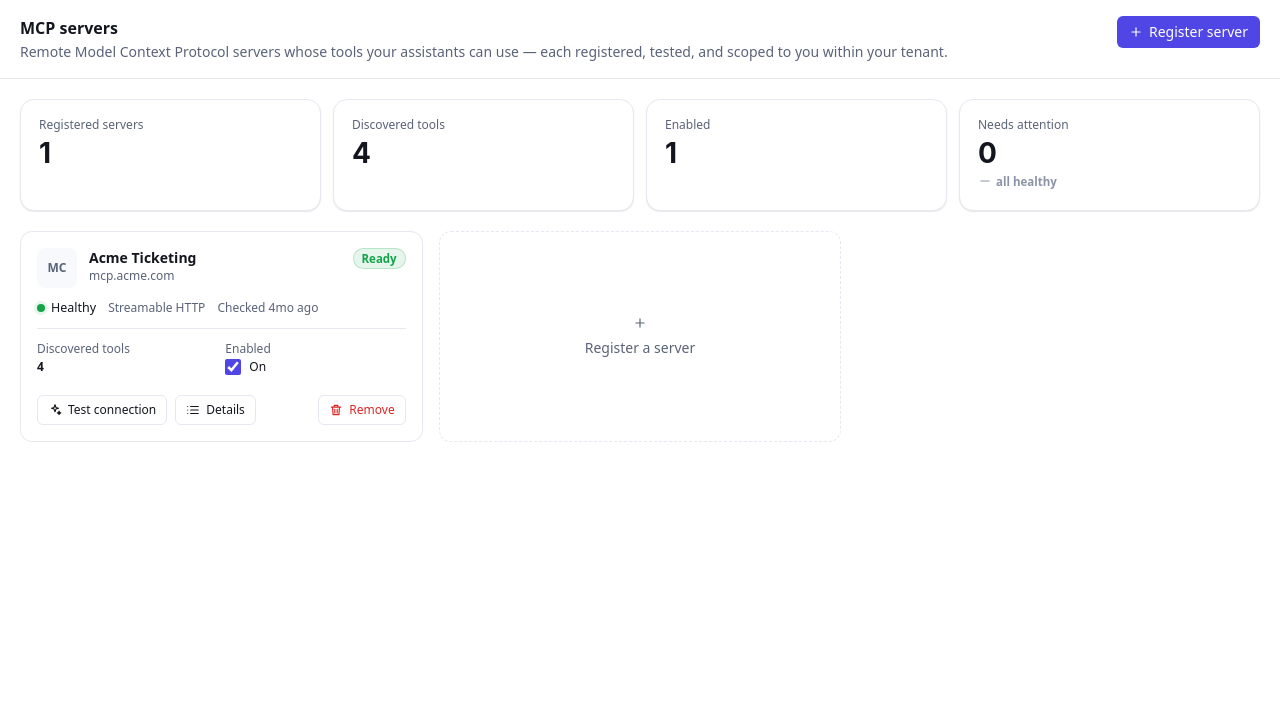
Test case: ServersPanel — actions › cancels the remove without deleting
Click the button with aria-label "remove acme".
click(362, 410)  # box [318,395,406,425]
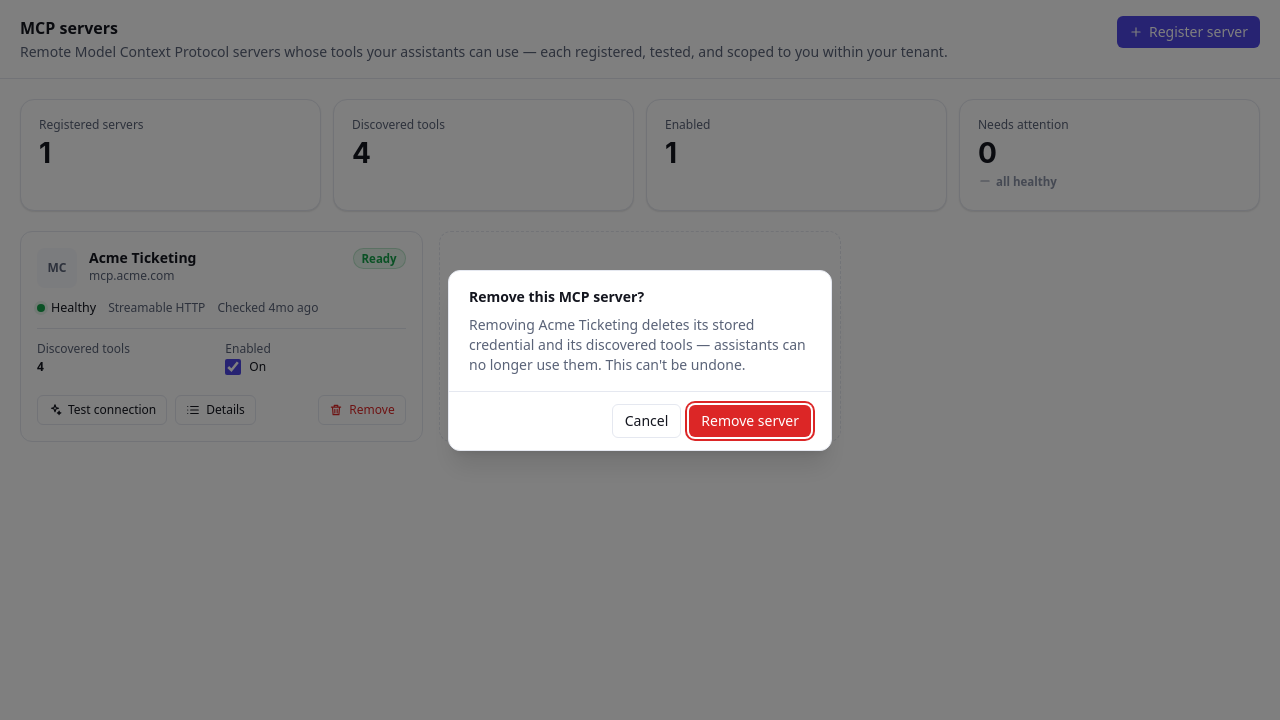
Click the button "Cancel".
click(646, 420)  # box [612,404,681,438]
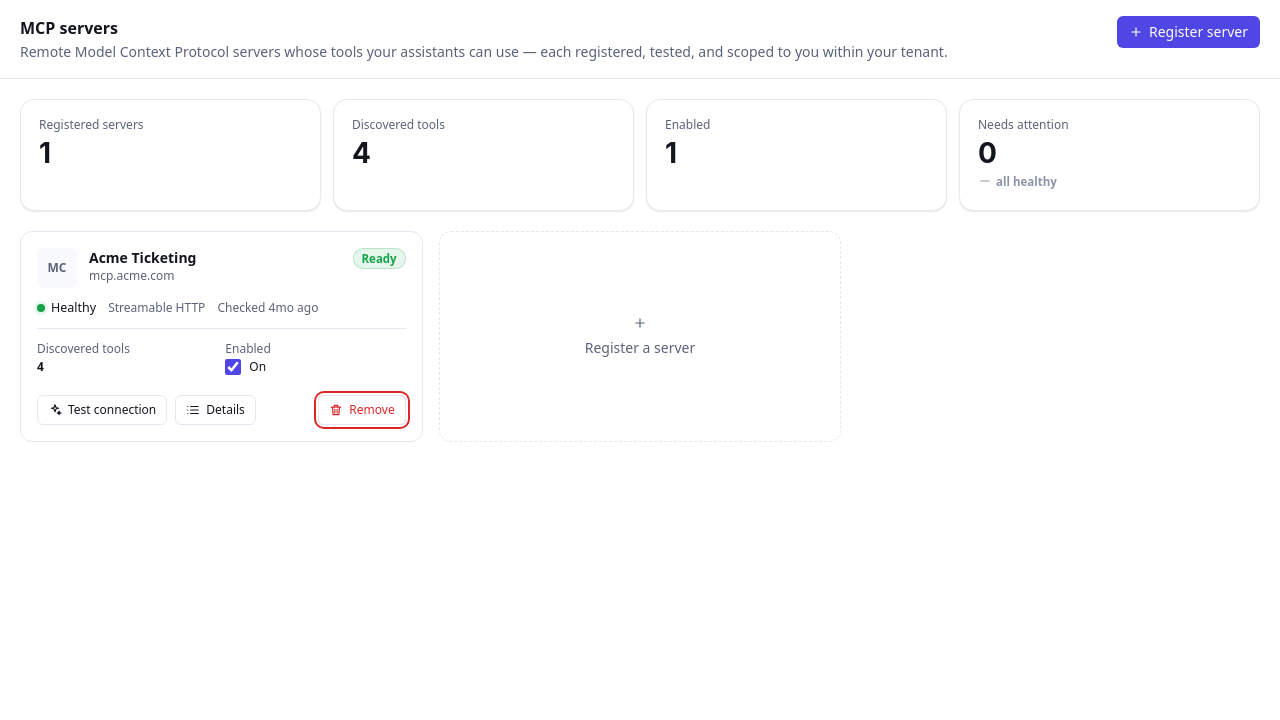
Check: the dialog is gone
